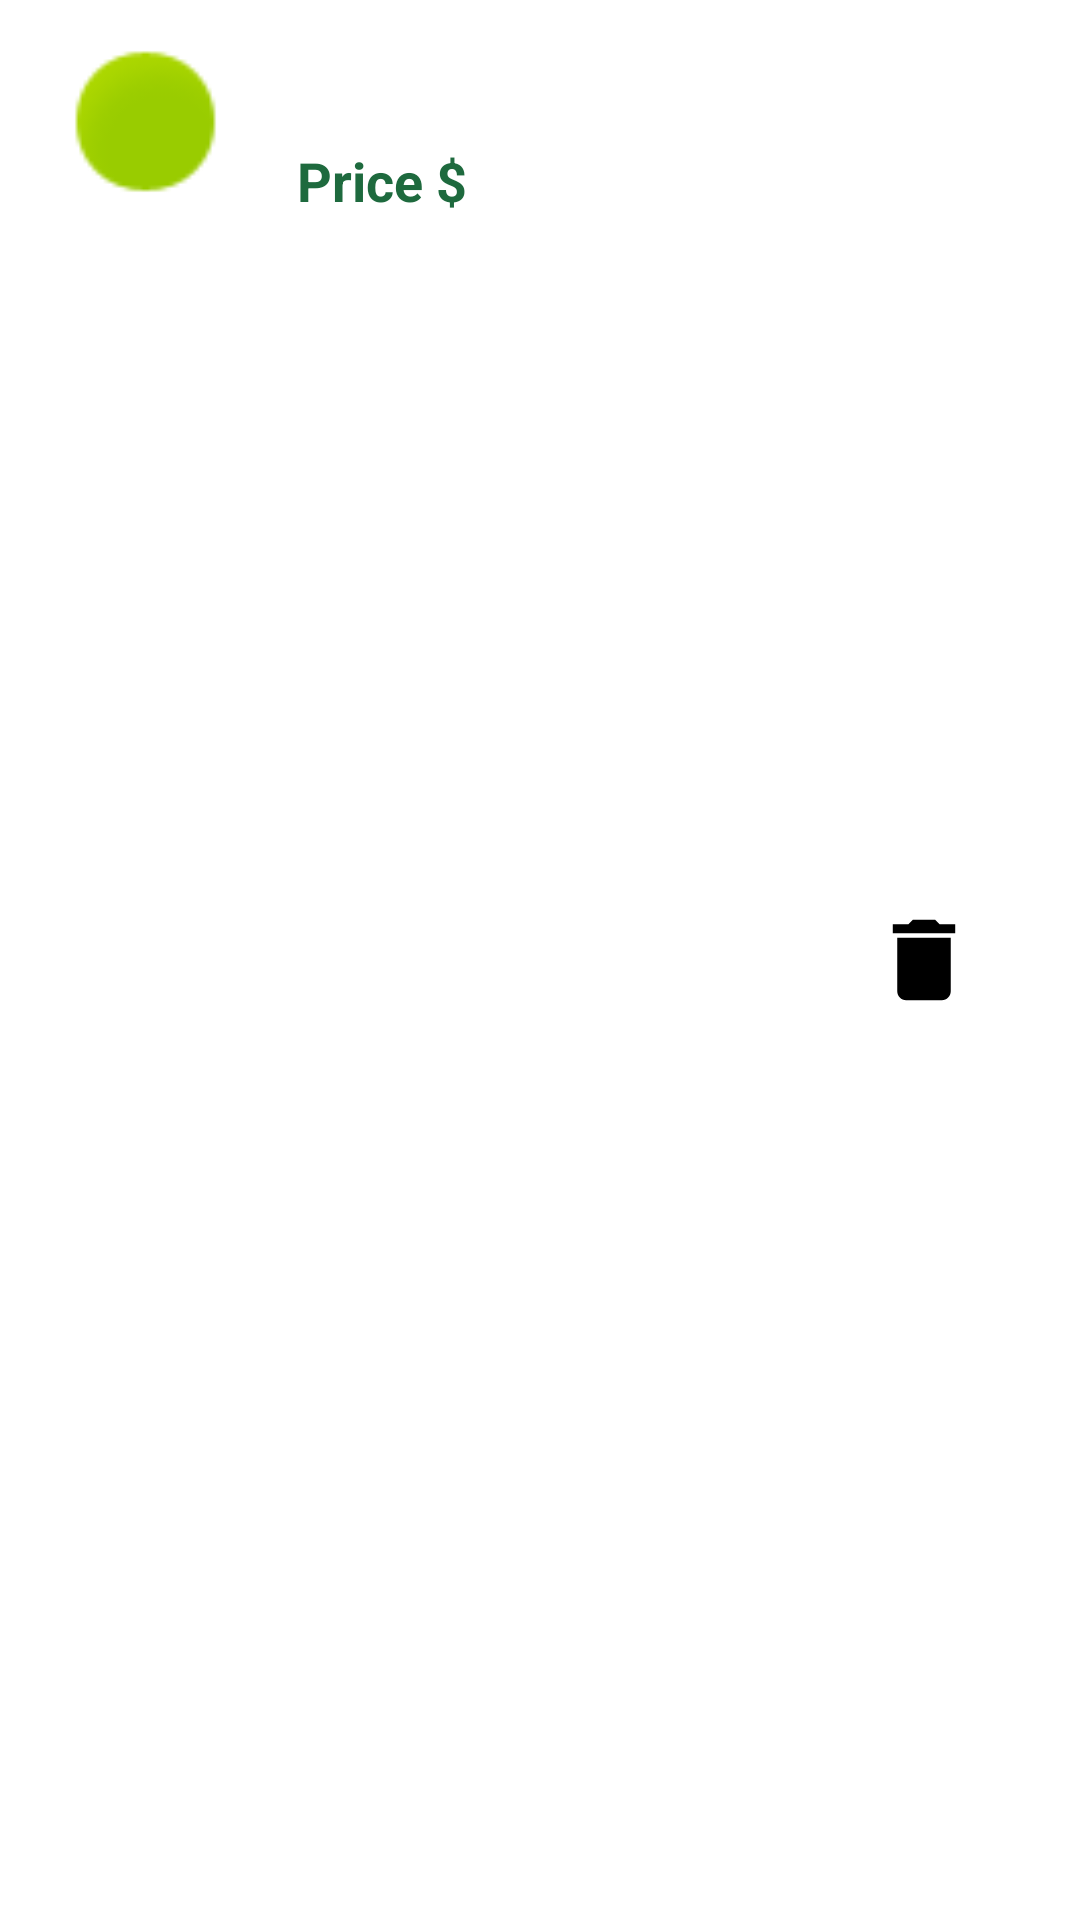

Icon click points for this 1080w x 1920h phone screenshot, format [x,y]:
dell: [924,960]
presence online: [145,121]
